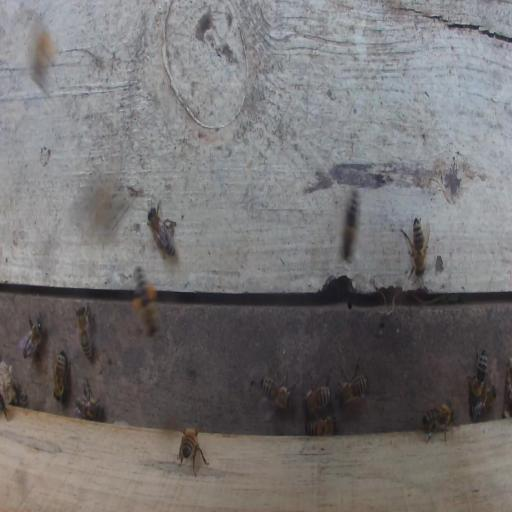nonpollenbee: (400, 216, 429, 279), (147, 200, 176, 258), (178, 426, 209, 476), (73, 300, 97, 363), (337, 363, 369, 409), (421, 402, 454, 444), (260, 375, 296, 412), (303, 370, 331, 415), (74, 378, 103, 421), (342, 191, 359, 261), (19, 314, 43, 360), (467, 347, 488, 398), (36, 28, 60, 69), (473, 382, 496, 418), (53, 350, 67, 402), (305, 415, 339, 436)
pollenbee: (132, 262, 161, 341)
